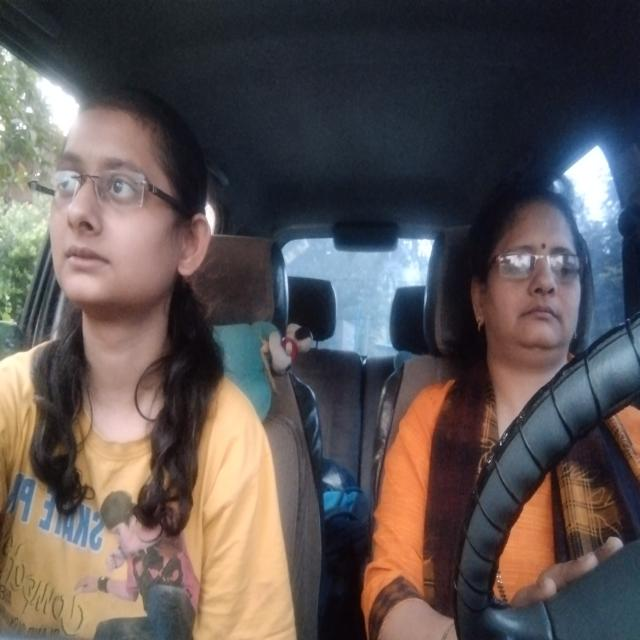person: (42, 91, 213, 313), (465, 187, 592, 358)
